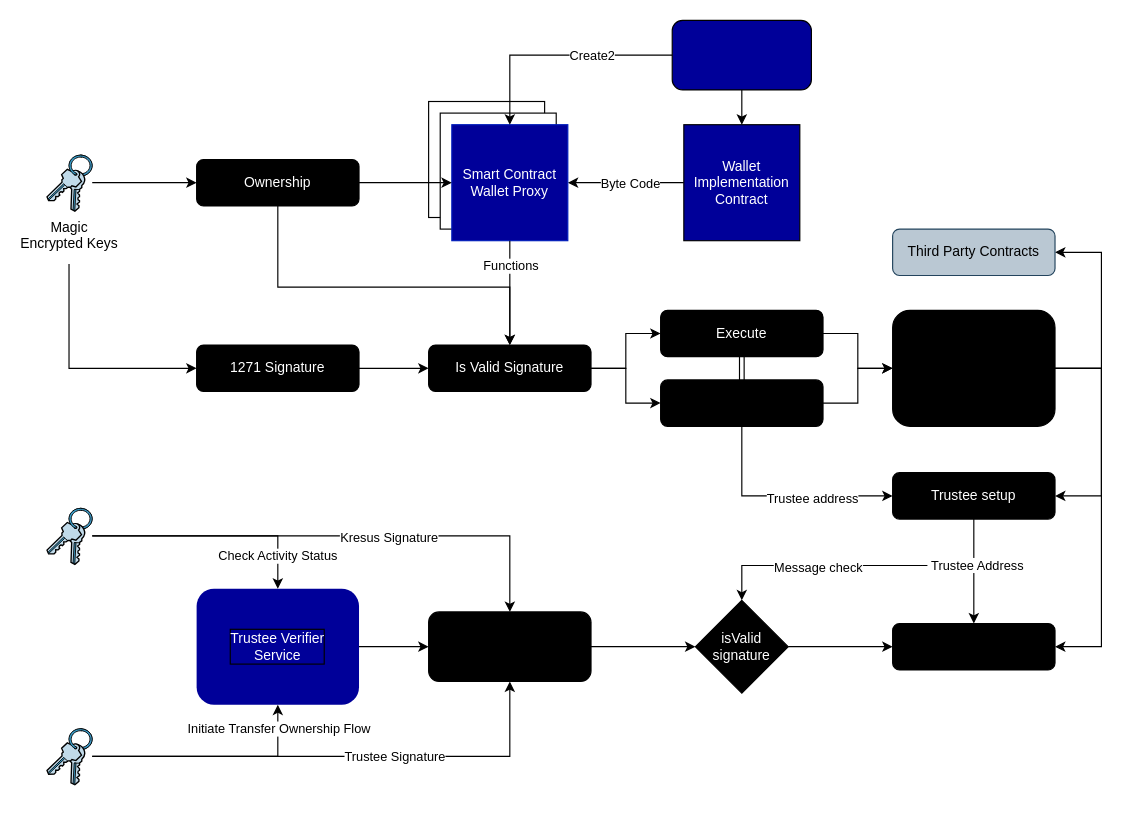
Some shapes in this 1131 by 829 pixel diagram are drawn without their labels. Here are the shapes that lost their labels. From the top down, the box of each, then its label:
(671, 19, 811, 90): Kresus 4337 Factory
(891, 309, 1055, 426): External / Internal Contract Calls
(659, 379, 823, 426): Execute Batch
(44, 506, 93, 565): Kresus Verifier Keys
(427, 611, 591, 682): Multisig 2/2 Threshold
(891, 622, 1055, 670): Transfer Ownership Trustee
(44, 726, 93, 785): Trustee Keys
